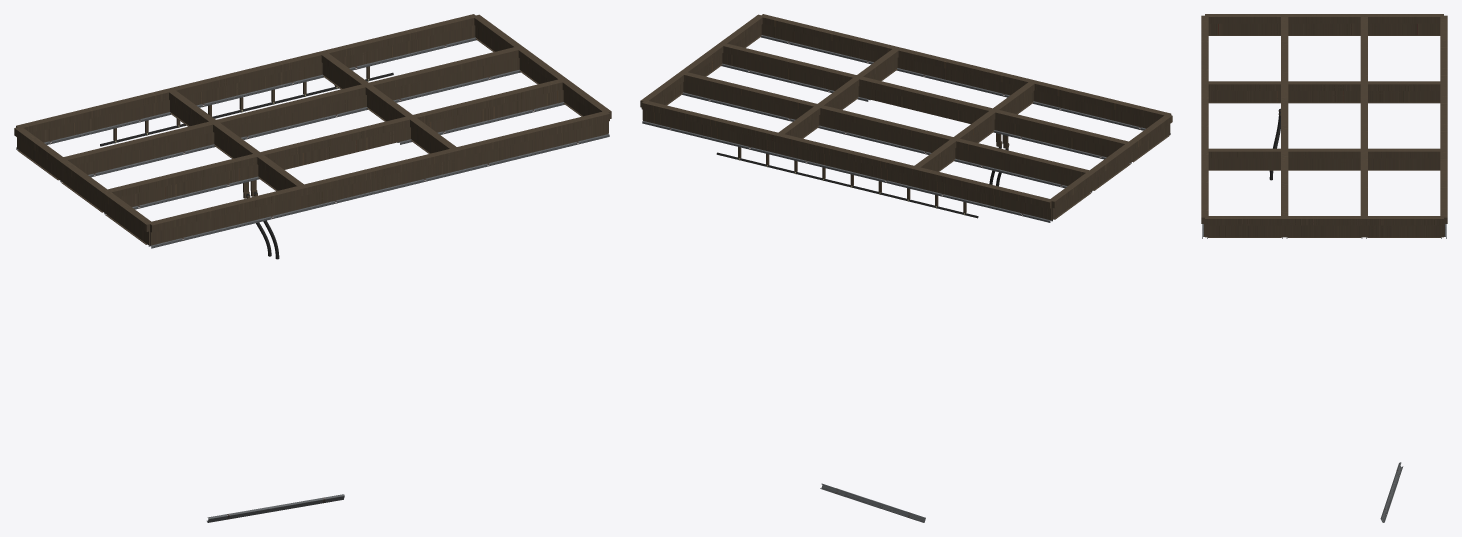
Rendered from fault-frame-pair.glb.
3 views of the same model, side by side, from view 1: azimuth 30°, elevation 25°; view 2: azimuth 150°, elevation 25°; view 3: azimuth 270°, elevation 25° (orthographic). The views are drawn at different scales.
Parts seen in each view (by area): view 1: steel_frame, seat_healthy, jacket, fallen_fragment, steel_clamps; view 2: steel_frame, seat_healthy, jacket, fallen_fragment, steel_clamps; view 3: steel_frame, fallen_fragment.
Boxes of the visible parts, box(x1,y1,x2,y2) form: steel_frame: box(14, 14, 611, 245); seat_healthy: box(16, 37, 609, 248); jacket: box(100, 72, 393, 259); fallen_fragment: box(207, 494, 344, 522); steel_clamps: box(113, 62, 369, 198); steel_frame: box(640, 14, 1172, 220); seat_healthy: box(642, 35, 1170, 222); jacket: box(716, 141, 1008, 218); fallen_fragment: box(820, 483, 925, 522); steel_clamps: box(738, 127, 1009, 213); steel_frame: box(1201, 14, 1447, 237); fallen_fragment: box(1380, 462, 1403, 522).
Bounding box in the file's own units: 3.65 × 3.15 × 1.85.
6 materials, 3 textured.
